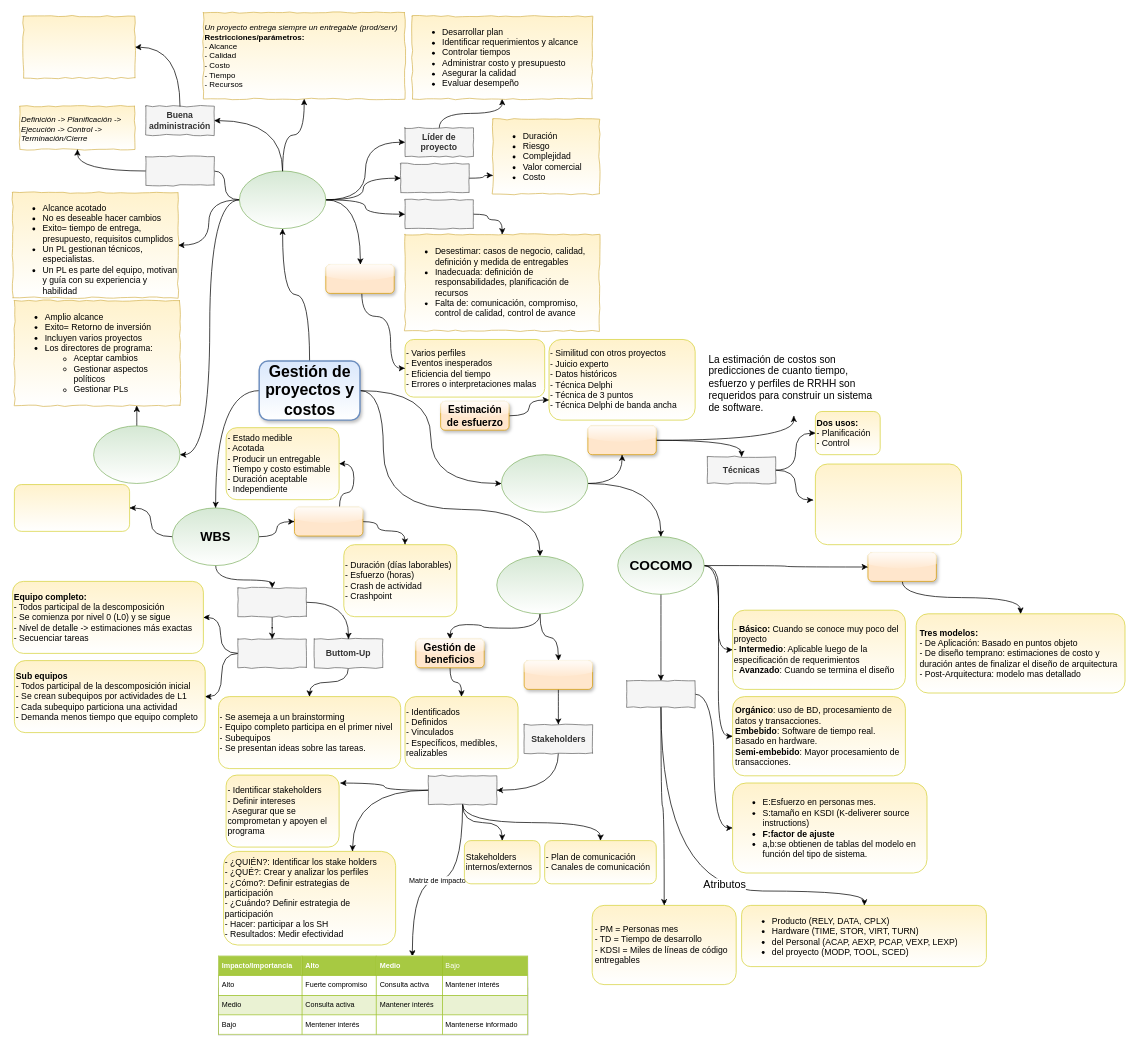
Some shapes in this 1138 by 1048 pixel diagram are drawn without their labels. Each missing label, with the centre of its shape:
"- Nivel 0 (Meta) - Actividades - Subactividades /Tareas" goes at (72,507).
"- Opinión experta - Analogía - Descomposición - Modelos (Bottom-Up / Top-Down)" goes at (888,504).
"Actividades" goes at (329,522).
"Causas de fracaso" goes at (438,214).
"Ciclo de vida" goes at (179,170).
"Clasificación" goes at (434,178).
"COCOMO 2" goes at (902,567).
"Construcción" goes at (271,602).
"Costos" goes at (544,483).
"Duración" goes at (360,279).
"Estimación de costos" goes at (622,441).
"Fórmula: E = a x S b x F" goes at (660,693).
"Gestión Compromiso Entrenamiento Finalización" goes at (79,46).
"Gestión de interesados" goes at (559,675).
"Gestión de proyectos" goes at (539,584).
"Gestión de Stakeholders" goes at (462,790).
"Programa" goes at (136,454).
"Proyecto" goes at (282,199).
"Top-Down" goes at (271,653).
